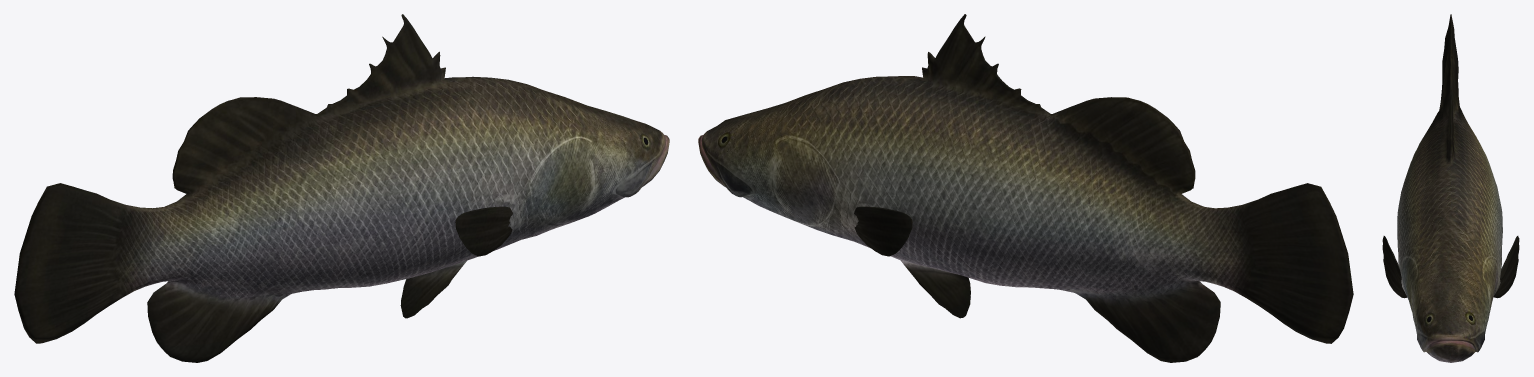
The model's file is sat-fish-1.glb.
3 views of the same model, side by side, from view 1: azimuth 30°, elevation 25°; view 2: azimuth 150°, elevation 25°; view 3: azimuth 270°, elevation 25° (orthographic). The views are drawn at different scales.
Visible parts, largest first — view 1: BarramundiFish; view 2: BarramundiFish; view 3: BarramundiFish.
Part boxes in pixels (box(x1,y1,x2,y2)): BarramundiFish: box(14, 14, 669, 362); BarramundiFish: box(698, 14, 1353, 362); BarramundiFish: box(1382, 14, 1519, 362).
Bounding box in the file's own units: 1 × 0.447 × 0.2223.
1 material, 1 textured.
